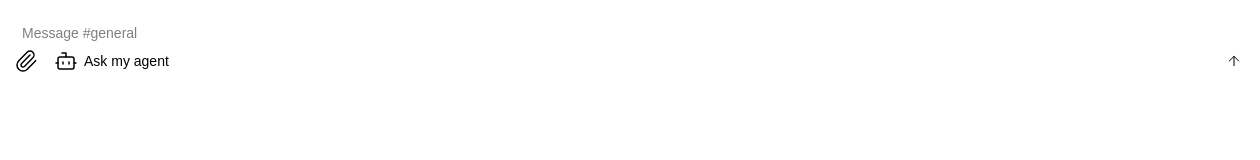
Test case: the composer’s suggestion list › accepts a row with Enter or Tab by inserting it, and sends nothing
The image size is (1260, 160).
Type "@ag" into the text box labelled "Message #general" at (632, 33), box top-left (22, 17), bottom-right (1242, 49)
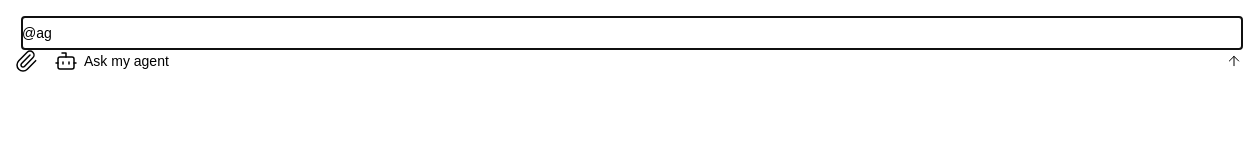
Press Enter
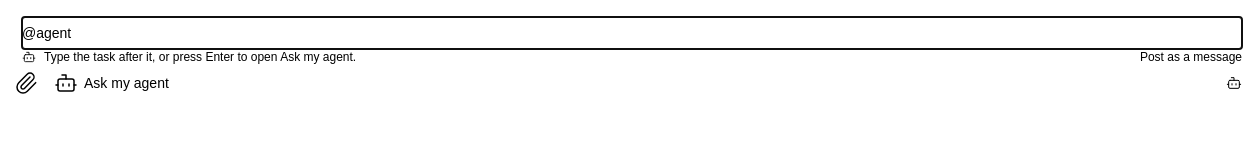
expect the text box named "Message #general" holds "@agent ": met
Replace the text in the text box named "Message #general" with "thanks @b" at (632, 33), box top-left (22, 17), bottom-right (1242, 49)
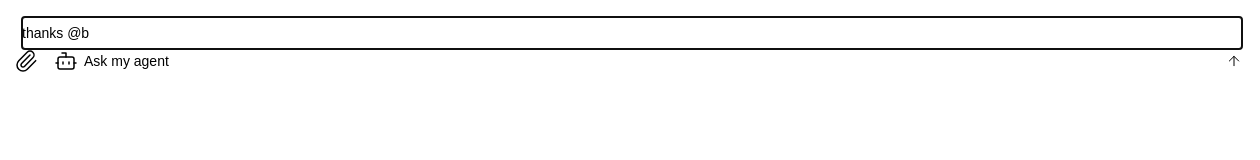
Press Tab
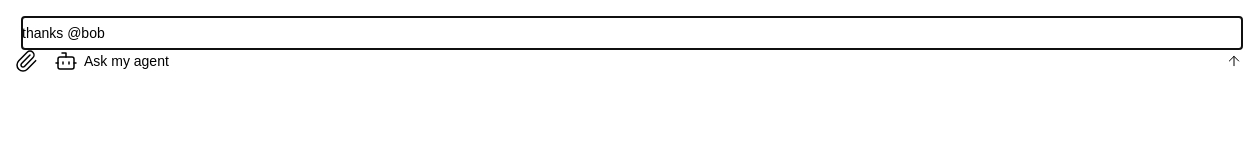
expect the text box named "Message #general" holds "thanks @bob ": met, box top-left (22, 17), bottom-right (1242, 49)
